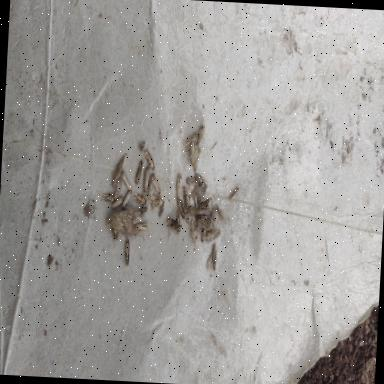pbw: (138, 147, 156, 170), (183, 130, 199, 152), (178, 194, 190, 219), (192, 171, 208, 189), (119, 168, 132, 190), (149, 172, 162, 194), (121, 186, 134, 208), (134, 158, 144, 184), (123, 234, 131, 266), (175, 196, 186, 219), (214, 204, 228, 222), (180, 185, 191, 207), (142, 163, 150, 193), (210, 242, 218, 272), (200, 219, 210, 242), (206, 226, 220, 242), (110, 194, 124, 210), (104, 210, 118, 226), (132, 190, 148, 204), (150, 192, 164, 208), (174, 208, 182, 235), (146, 176, 154, 202), (114, 175, 122, 200), (226, 186, 239, 201), (195, 217, 210, 230), (184, 174, 200, 186), (100, 191, 116, 203), (196, 122, 204, 146), (175, 174, 183, 198), (134, 219, 148, 232), (209, 206, 216, 231), (196, 206, 212, 216), (198, 196, 210, 208), (110, 226, 119, 242), (188, 137, 195, 157), (110, 219, 122, 230), (205, 253, 212, 270), (193, 192, 199, 210)
